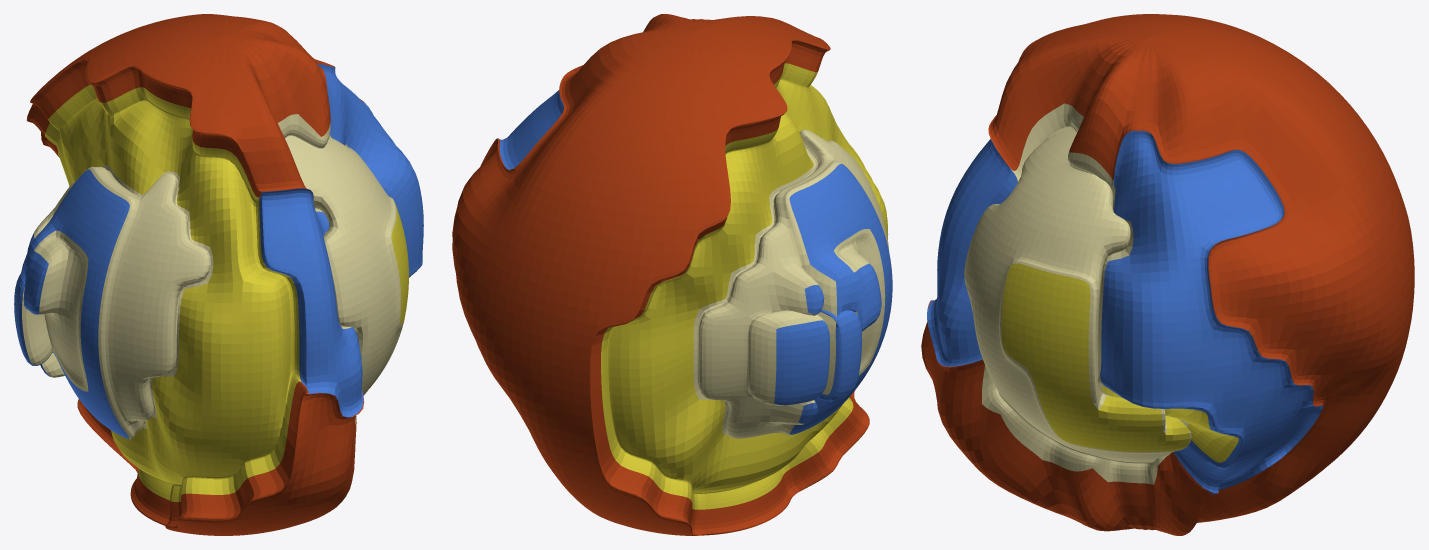
Rendered from planet_margs_7.fbx.
3 views of the same model, side by side, from view 1: azimuth 30°, elevation 25°; view 2: azimuth 150°, elevation 25°; view 3: azimuth 270°, elevation 25° (orthographic).
Parts seen in each view (by area): view 1: Sphere; view 2: Sphere; view 3: Sphere.
Part boxes in pixels (<box>): Sphere: <box>14,14,423,535</box>; Sphere: <box>452,14,892,535</box>; Sphere: <box>921,14,1414,535</box>.
Bounding box in the file's own units: 180 × 214 × 198.
